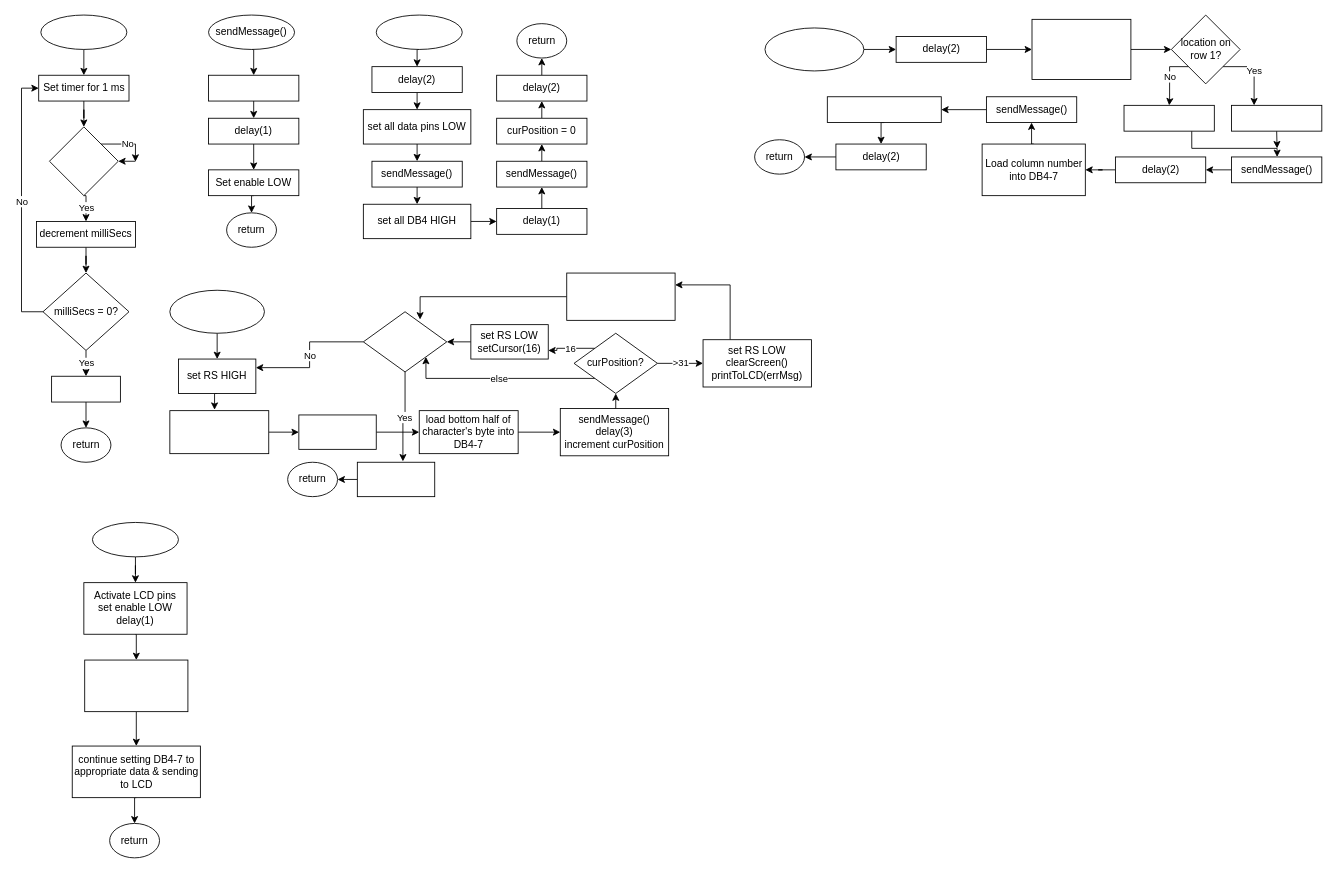
Image size: 1336x873. Some labels were removed from this diagram. Here are the shapes that lost their labels. From the top down, the box of each, then its label:
(40, 14, 127, 49): delay(milliSecs)
(375, 14, 462, 49): clearScreen()
(764, 27, 864, 71): setCursor(location)
(1031, 18, 1131, 80): set RS LOW & DB7 HIGH & DB5 LOW & DB4 LOW
(208, 74, 299, 101): Set enable HIGH
(826, 96, 941, 123): curPosition = location
(1123, 104, 1214, 131): set DB6 HIGH
(1231, 104, 1322, 131): set DB6 LOW
(49, 126, 118, 196): timer done?
(169, 289, 264, 333): printToLCD(word)
(566, 272, 675, 320): delay(4) clearScreen()
(362, 311, 447, 372): word done?
(51, 375, 120, 402): stop timer
(169, 410, 269, 454): load top half of character's byte into DB4-7
(298, 414, 376, 449): sendMessage() delay(3)
(356, 461, 435, 497): set RS LOW
(92, 522, 178, 557): extLCDinit()
(84, 659, 188, 712): set RS LOW set DB4-7 to 1,1,0,0 sendMessage()
